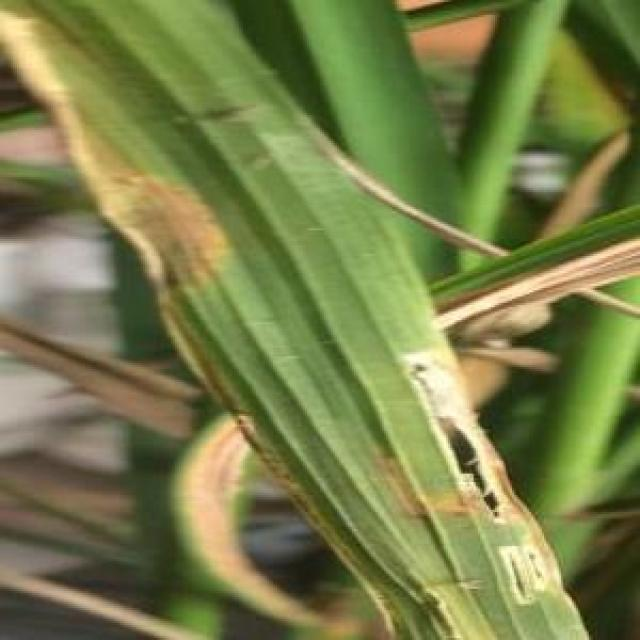Bacterial_Blight: (181, 228, 640, 624), (0, 0, 230, 307), (0, 308, 198, 441), (81, 149, 228, 309), (396, 351, 518, 534), (496, 535, 556, 610), (0, 126, 75, 177)
